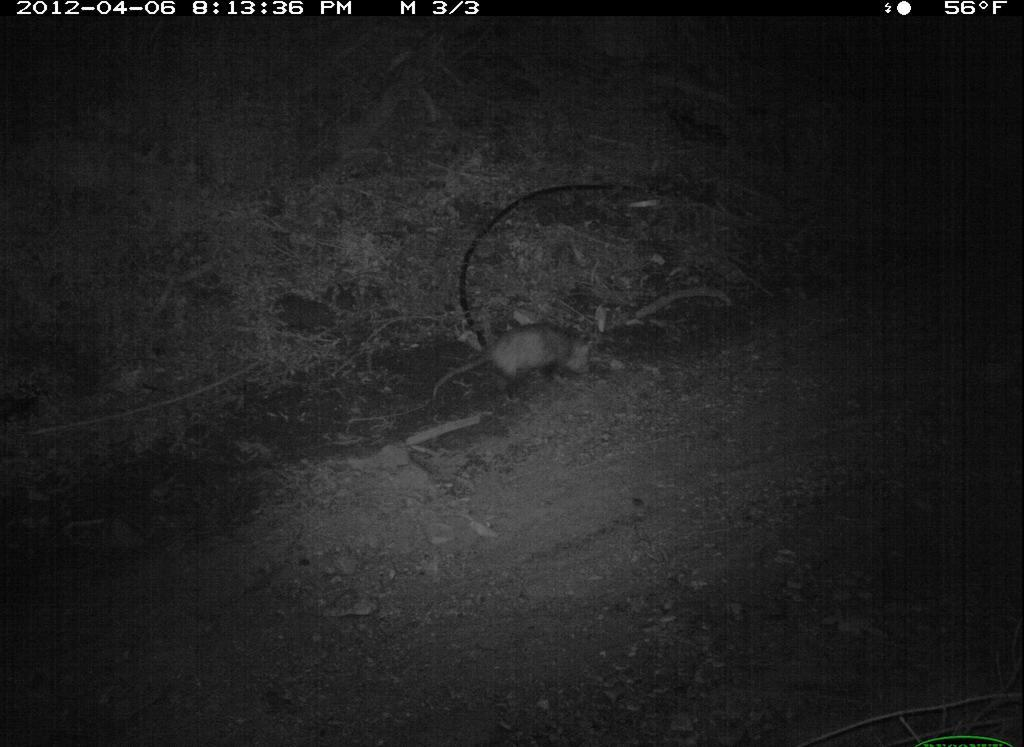opossum: (411, 315, 611, 419)
